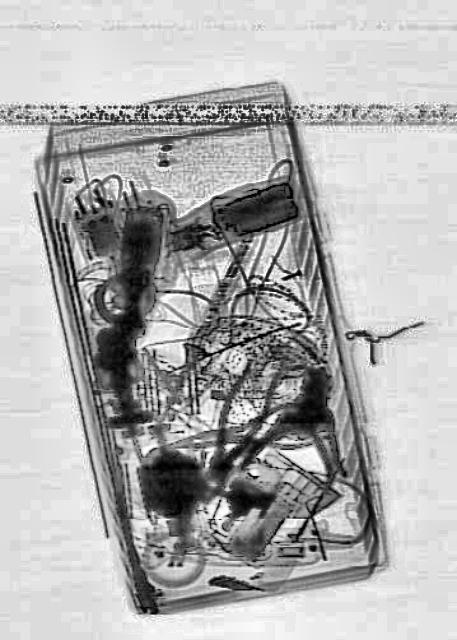Pliers: (192, 341, 286, 499), (160, 394, 332, 468)
